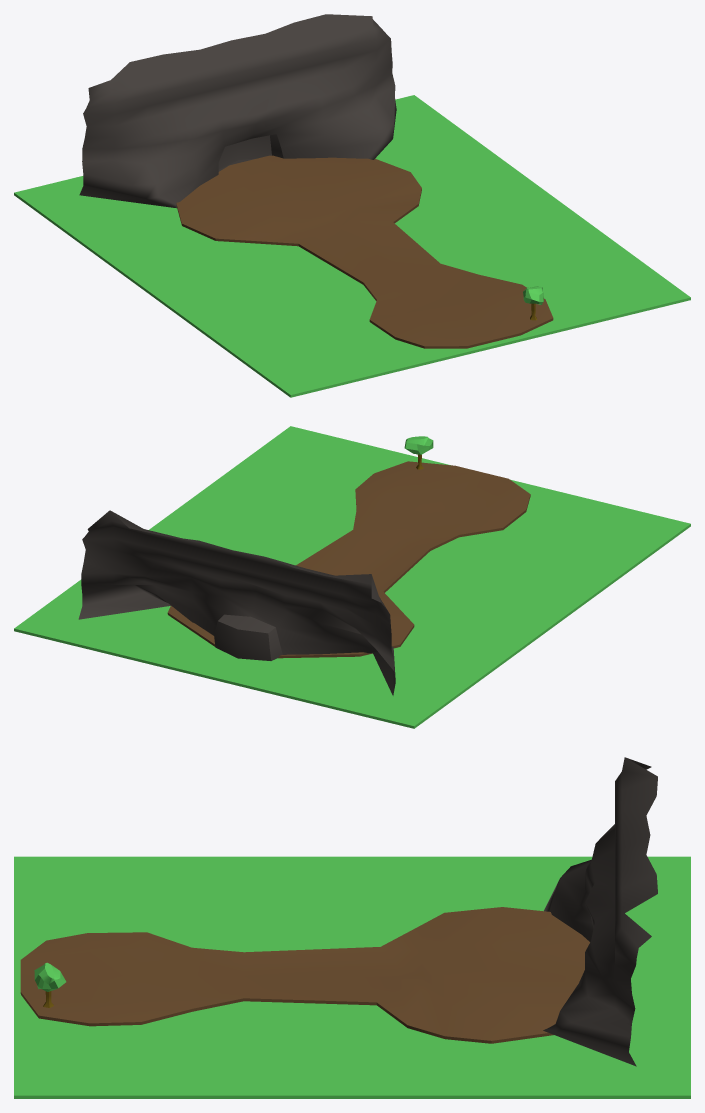
Rendered from Tutorial_Prueba.fbx.
3 renders of one model, top to bottom at view 1: azimuth 30°, elevation 25°; view 2: azimuth 150°, elevation 25°; view 3: azimuth 270°, elevation 25°, orthographic. The views are drawn at different scales.
Parts seen in each view (by area): view 1: pPlane3, pPlane2, pPlane1; view 2: pPlane3, pPlane2, pPlane1; view 3: pPlane3, pPlane1, pPlane2, pasted__pSphere1.
Part boxes in pixels (left/top/right/bottom): pPlane3: left=14, top=95, right=690, bottom=397; pPlane2: left=79, top=14, right=396, bottom=208; pPlane1: left=176, top=155, right=553, bottom=348; pPlane3: left=14, top=426, right=690, bottom=728; pPlane2: left=78, top=510, right=395, bottom=695; pPlane1: left=167, top=461, right=530, bottom=658; pPlane3: left=14, top=856, right=690, bottom=1098; pPlane1: left=20, top=907, right=589, bottom=1043; pPlane2: left=543, top=757, right=657, bottom=1066; pasted__pSphere1: left=34, top=962, right=66, bottom=991.
Bounding box in the file's own units: 31.96 × 9 × 38.26.
